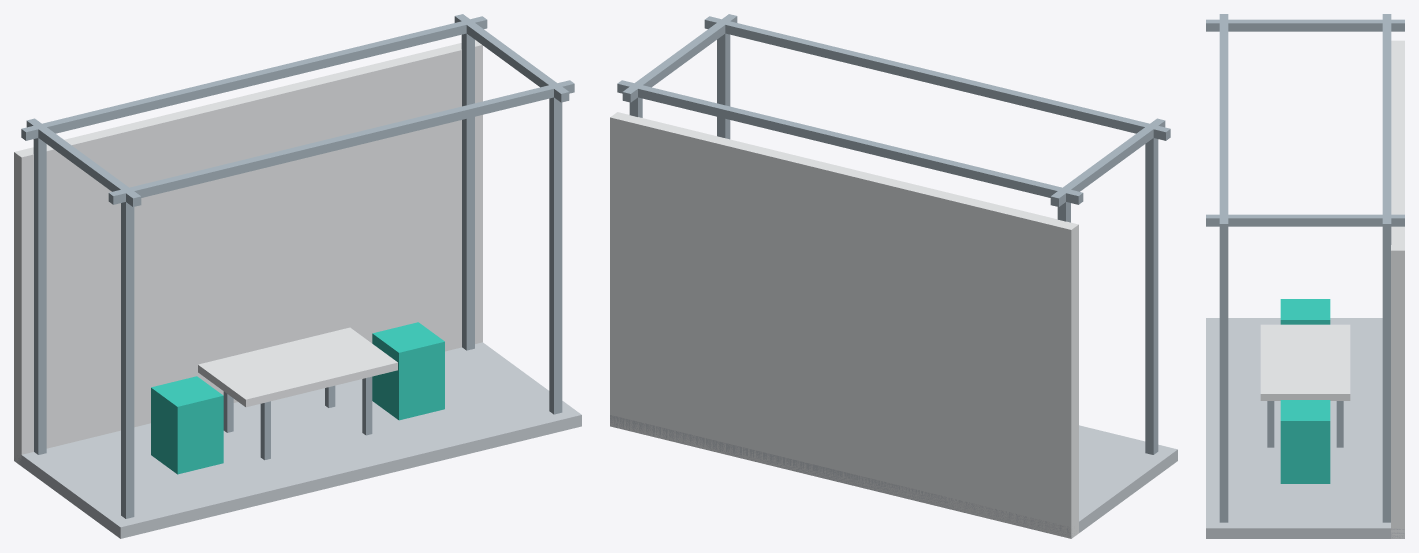
The picture shows the model from 3 angles, left to right: view 1: azimuth 30°, elevation 25°; view 2: azimuth 150°, elevation 25°; view 3: azimuth 270°, elevation 25°; orthographic projection. The views are drawn at different scales.
Visible parts, largest first — view 1: Exhibition Booth Concept; view 2: Exhibition Booth Concept; view 3: Exhibition Booth Concept.
Boxes of the visible parts, x1,y1,x2,y2 form: Exhibition Booth Concept: (14, 14, 581, 538); Exhibition Booth Concept: (610, 14, 1177, 538); Exhibition Booth Concept: (1206, 14, 1404, 538).
Bounding box in the file's own units: 5 × 3.49 × 2.
